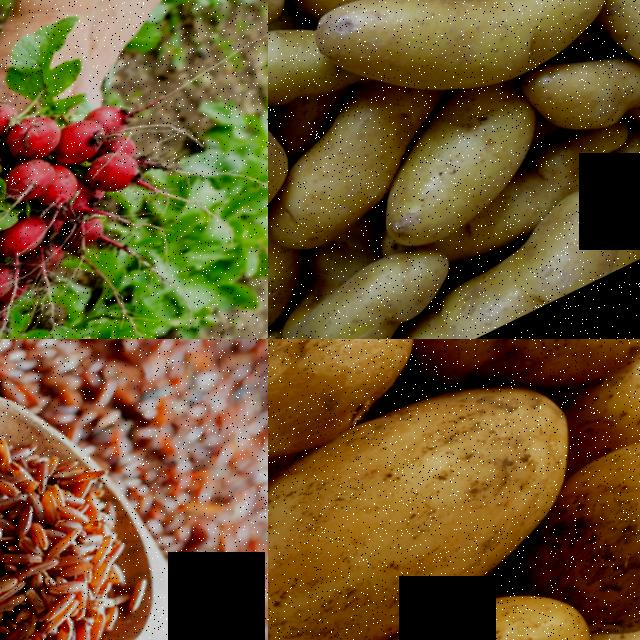potato: (268, 349, 614, 640), (300, 0, 640, 150), (349, 76, 567, 263), (427, 176, 640, 339), (268, 339, 434, 522), (268, 559, 630, 640), (521, 397, 640, 640), (268, 235, 483, 339), (416, 339, 640, 432), (268, 120, 408, 261), (591, 0, 640, 130)
radishes: (0, 42, 202, 339)
red rice: (0, 386, 162, 640)
